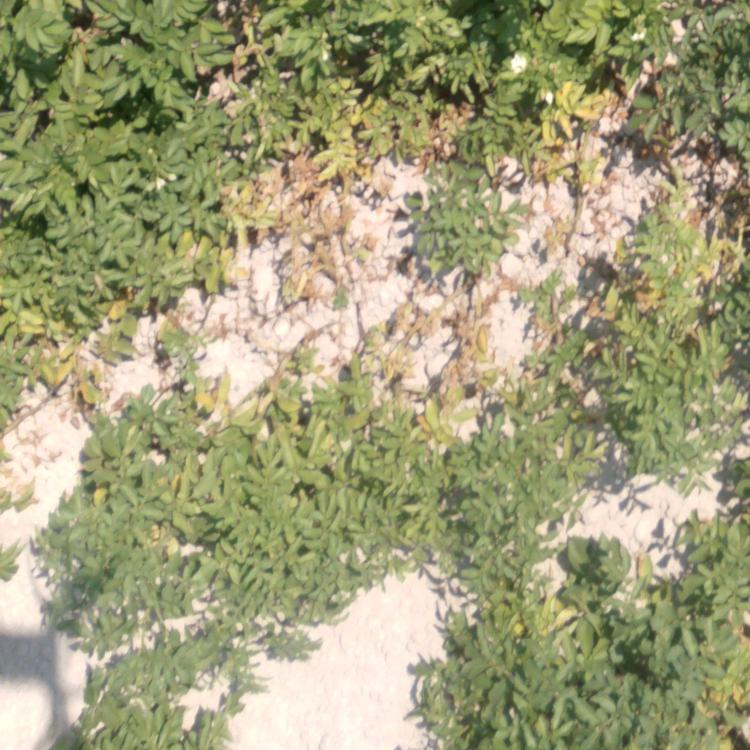healthy: (464, 582, 745, 750), (8, 1, 228, 187), (250, 464, 583, 580), (70, 547, 246, 750), (625, 1, 750, 154), (3, 195, 137, 278), (675, 482, 750, 576)
stressed: (579, 181, 740, 464), (250, 328, 563, 453), (233, 1, 375, 266), (386, 1, 607, 162), (73, 394, 228, 536), (406, 164, 504, 302), (1, 278, 112, 383)
